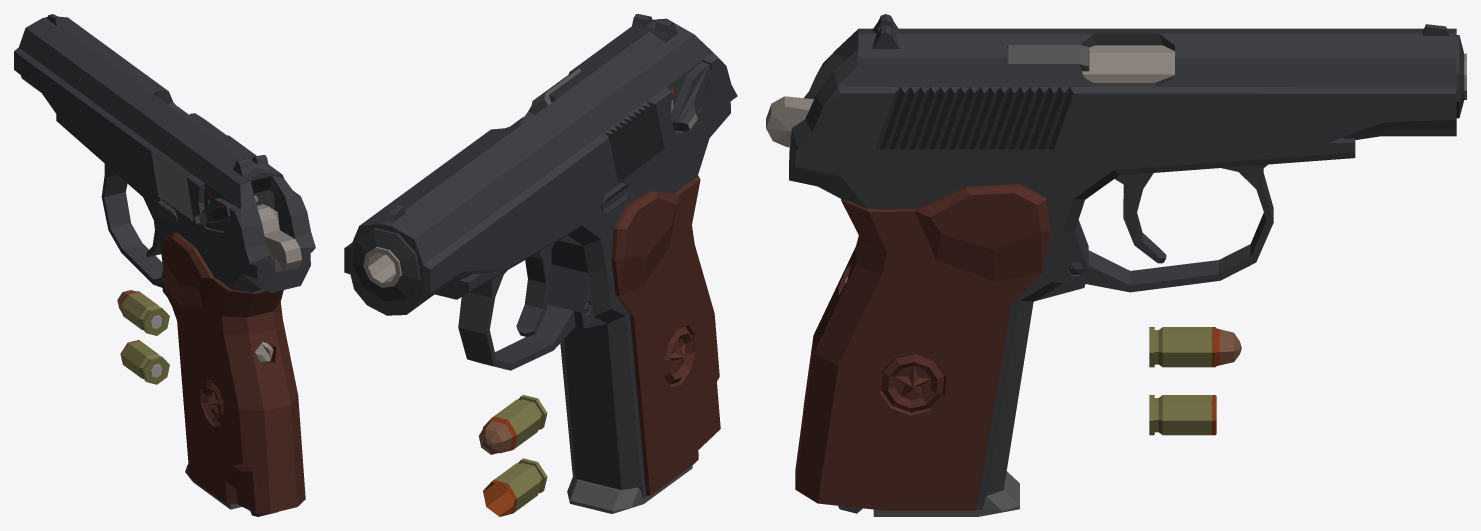
File: low-poly_makarov_pistol.glb
3 views of the same model, side by side, from view 1: azimuth 30°, elevation 25°; view 2: azimuth 150°, elevation 25°; view 3: azimuth 270°, elevation 25° (orthographic). The views are drawn at different scales.
Parts seen in each view (by area): view 1: main_2, slide_4, hammer_0, Cylinder.001_7, Cylinder.002_8, safety_3; view 2: main_2, slide_4, Cylinder.001_7, Cylinder.002_8, trigger_6, mag_1, safety_3, slide_lock_5; view 3: main_2, slide_4, Cylinder.001_7, Cylinder.002_8, mag_1, trigger_6, hammer_0.
Part boxes in pixels (x1=…): main_2: x1=56, y1=114, x2=310, y2=516; slide_4: x1=14, y1=14, x2=315, y2=265; hammer_0: x1=257, y1=204, x2=301, y2=271; Cylinder.001_7: x1=117, y1=290, x2=169, y2=335; Cylinder.002_8: x1=120, y1=340, x2=169, y2=384; safety_3: x1=194, y1=198, x2=232, y2=230; main_2: x1=363, y1=102, x2=730, y2=498; slide_4: x1=344, y1=14, x2=737, y2=315; Cylinder.001_7: x1=479, y1=395, x2=547, y2=454; Cylinder.002_8: x1=483, y1=458, x2=547, y2=516; trigger_6: x1=516, y1=243, x2=554, y2=337; mag_1: x1=567, y1=465, x2=692, y2=513; safety_3: x1=671, y1=61, x2=712, y2=131; slide_lock_5: x1=601, y1=181, x2=628, y2=212; main_2: x1=789, y1=45, x2=1466, y2=513; slide_4: x1=791, y1=14, x2=1464, y2=149; Cylinder.001_7: x1=1149, y1=327, x2=1241, y2=367; Cylinder.002_8: x1=1149, y1=395, x2=1216, y2=435; mag_1: x1=873, y1=471, x2=1019, y2=516; trigger_6: x1=1115, y1=173, x2=1166, y2=263; hammer_0: x1=766, y1=96, x2=813, y2=147.
Size of the model in its own units: 0.0326 by 0.1427 by 0.1871.
